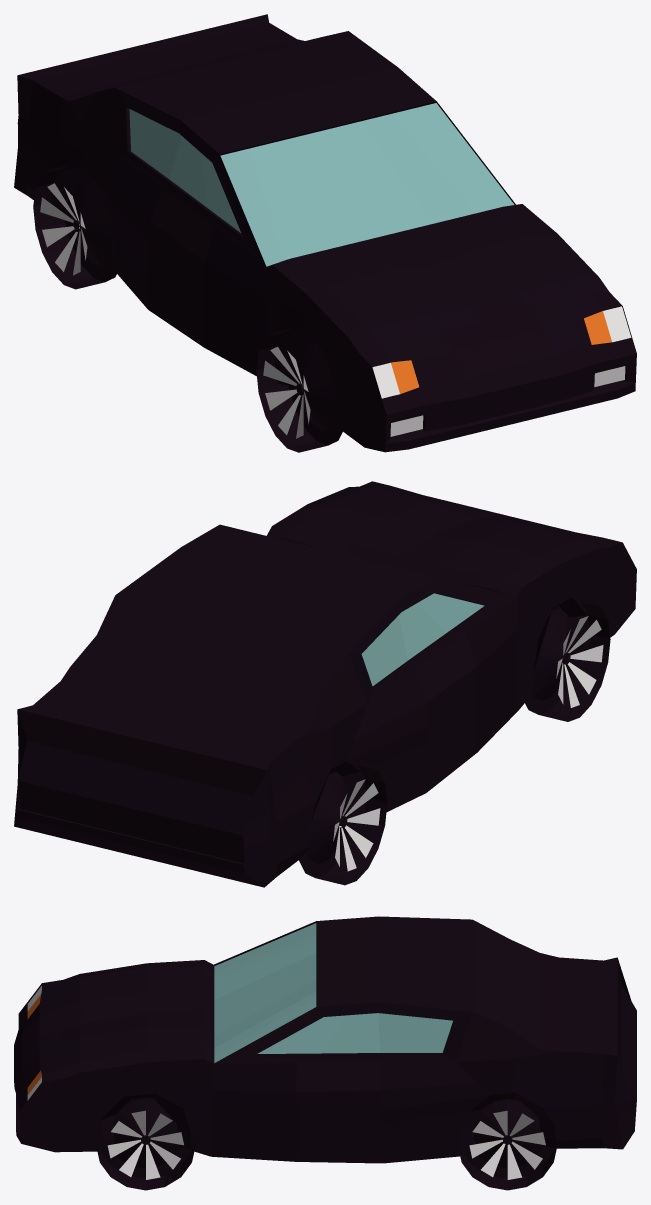
File: CarroDesportivoModel.fbx
3 views of the same model, one above another, from view 1: azimuth 30°, elevation 25°; view 2: azimuth 150°, elevation 25°; view 3: azimuth 270°, elevation 25° (orthographic). The views are drawn at different scales.
Parts seen in each view (by area): view 1: Cube; view 2: Cube; view 3: Cube.
Boxes of the visible parts, x1,y1,x2,y2 form: Cube: (14, 14, 636, 452); Cube: (14, 481, 636, 887); Cube: (14, 916, 636, 1190).
Bounding box in the file's own units: 212 × 148 × 481.
